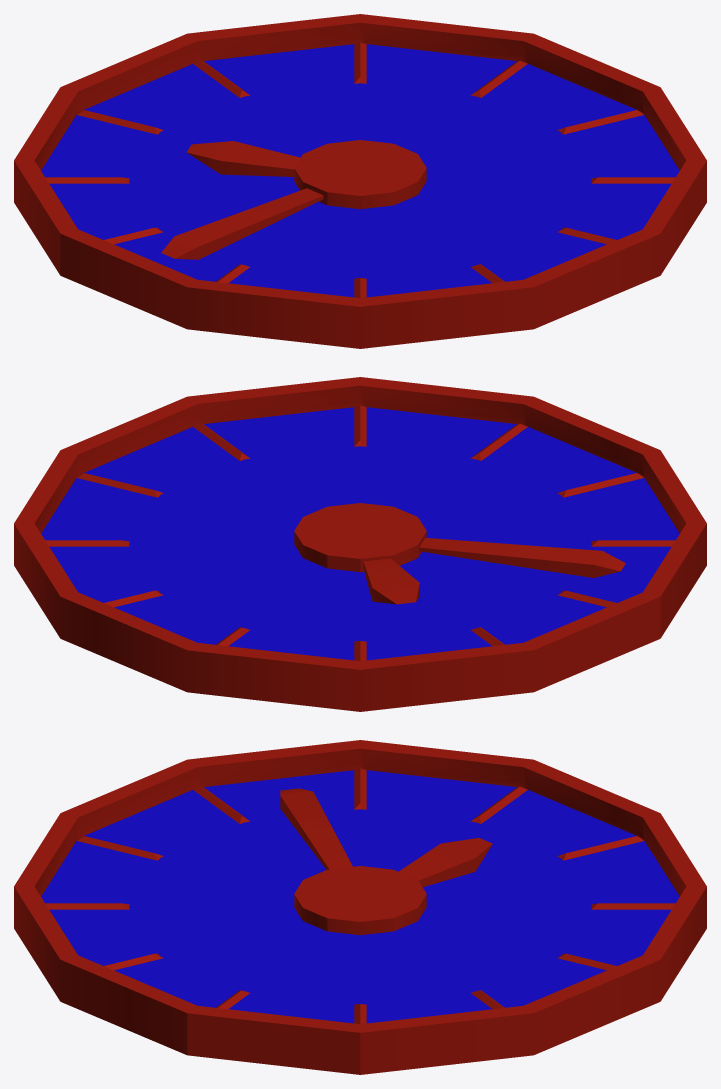
File: P_Horloge_Colored_Unbreakable.fbx
The picture shows the model from 3 angles, top to bottom: view 1: azimuth 30°, elevation 25°; view 2: azimuth 150°, elevation 25°; view 3: azimuth 270°, elevation 25°; orthographic projection.
Parts seen in each view (by area): view 1: P_Horloge_Colored_Unbreakable; view 2: P_Horloge_Colored_Unbreakable; view 3: P_Horloge_Colored_Unbreakable.
Boxes of the visible parts, bbox=[...] form: P_Horloge_Colored_Unbreakable: bbox=[14, 14, 706, 348]; P_Horloge_Colored_Unbreakable: bbox=[14, 377, 706, 711]; P_Horloge_Colored_Unbreakable: bbox=[14, 740, 706, 1074].
Bounding box in the file's own units: 156 × 10.44 × 156.
